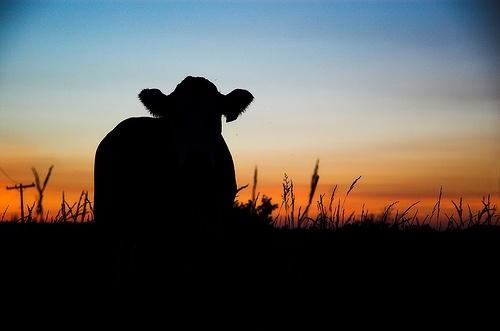cow: (93, 75, 256, 223)
